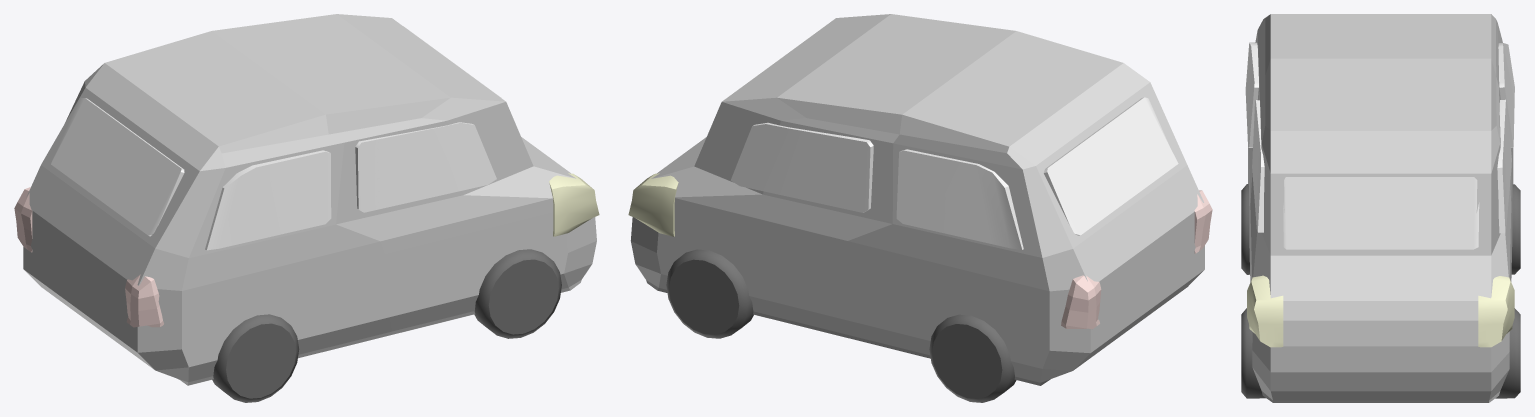
Rendered from CarroBlanco.fbx.
The picture shows the model from 3 angles, left to right: view 1: azimuth 30°, elevation 25°; view 2: azimuth 150°, elevation 25°; view 3: azimuth 270°, elevation 25°; orthographic projection. The views are drawn at different scales.
Parts seen in each view (by area): view 1: pCube1, pCube10, pCube8, pCube7, pCylinder1, pCylinder2, pCube11, pCube9; view 2: pCube1, pCube10, pCube12, pCube4, pCylinder3, pCylinder4, pCube11, pCube9; view 3: pCube1, pCube6, pCube9, pCube12, pCube8, pCylinder3, pCylinder1, pCube4, pCube7, pCylinder4, pCylinder2.
Boxes of the visible parts, bbox=[...] form: pCube1: bbox=[23, 14, 596, 385]; pCube10: bbox=[51, 98, 184, 236]; pCube8: bbox=[355, 122, 496, 212]; pCube7: bbox=[205, 150, 331, 250]; pCylinder1: bbox=[474, 249, 561, 338]; pCylinder2: bbox=[212, 314, 299, 402]; pCube11: bbox=[14, 187, 163, 327]; pCube9: bbox=[549, 173, 599, 236]; pCube1: bbox=[630, 14, 1204, 385]; pCube10: bbox=[1043, 97, 1178, 235]; pCube12: bbox=[730, 122, 873, 212]; pCube4: bbox=[896, 149, 1023, 249]; pCylinder3: bbox=[666, 249, 753, 338]; pCylinder4: bbox=[929, 314, 1016, 402]; pCube11: bbox=[1061, 190, 1212, 329]; pCube9: bbox=[628, 173, 678, 236]; pCube1: bbox=[1248, 14, 1513, 402]; pCube6: bbox=[1283, 177, 1479, 249]; pCube9: bbox=[1247, 275, 1514, 347]; pCube12: bbox=[1497, 99, 1511, 233]; pCube8: bbox=[1252, 100, 1264, 232]; pCylinder3: bbox=[1495, 308, 1520, 398]; pCylinder1: bbox=[1241, 308, 1265, 398]; pCube4: bbox=[1498, 42, 1514, 147]; pCube7: bbox=[1245, 42, 1258, 147]; pCylinder4: bbox=[1511, 184, 1520, 274]; pCylinder2: bbox=[1241, 184, 1249, 274].
Bounding box in the file's own units: 20.49 × 10.94 × 11.09.
